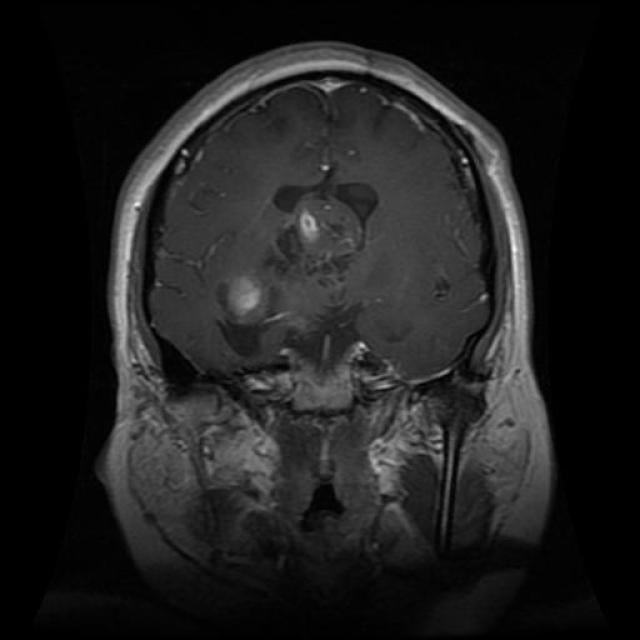glioma: (272, 176, 378, 280)
